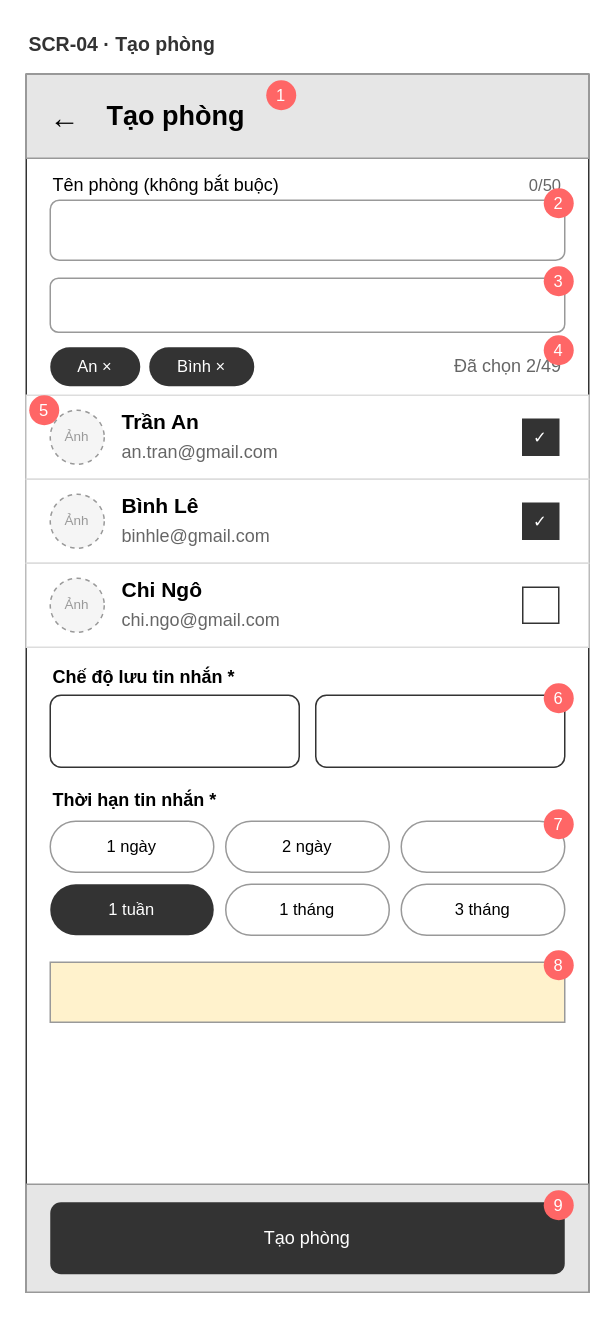
The diagram is 615 pixels wide and 1319 high, and some of its shapes have lost their labels. Each missing label, with the box of its shape:
3 ngày: (400, 820, 565, 872)
Lọc bạn bè theo tên hoặc email: (49, 277, 565, 332)
Để trống: hiển thị tên thành viên: (49, 199, 565, 260)
◉ Ngắn hạn tin tự xóa sau thời hạn: (49, 694, 299, 767)
○ Lâu dài giữ vĩnh viễn: (314, 694, 565, 767)
⚠ Chế độ lưu và thời hạn không đổi được sau khi tạo phòng.: (49, 961, 565, 1022)
